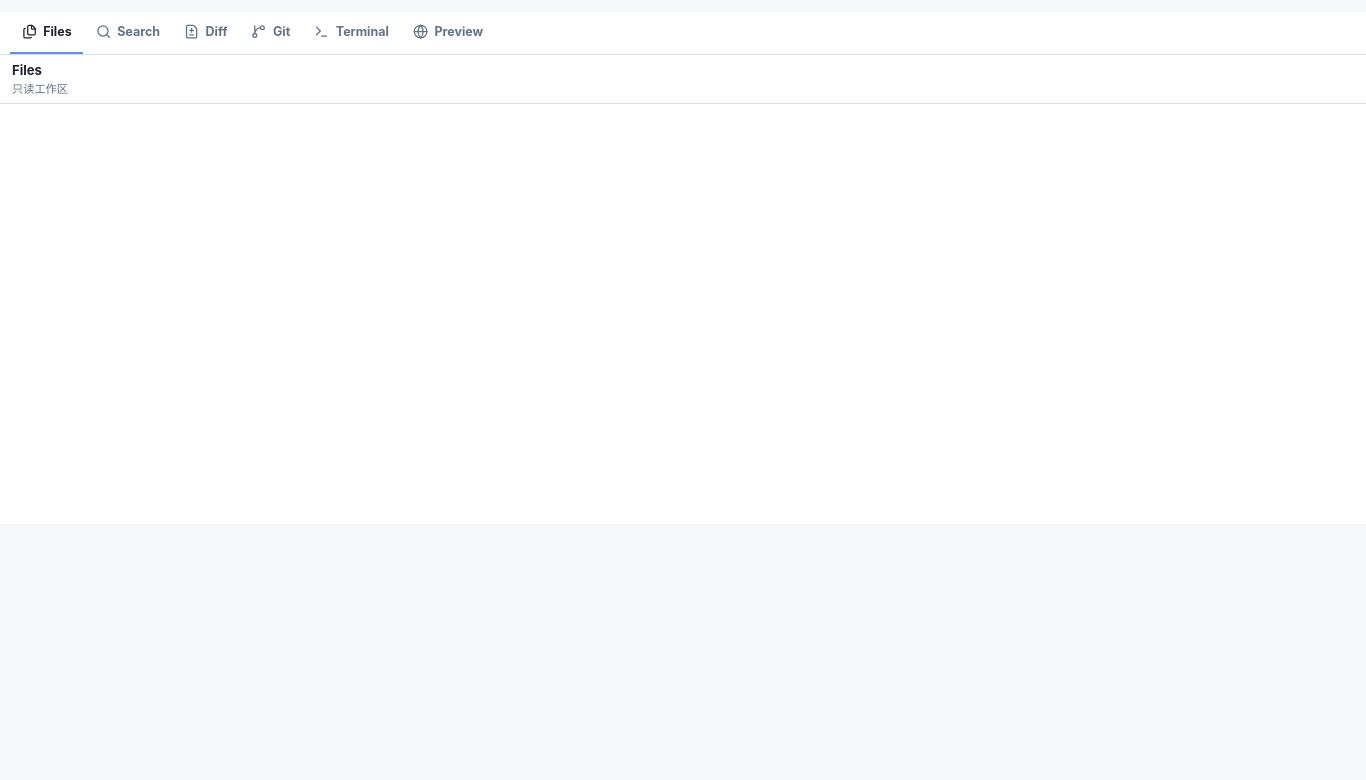
it: JA Workbench native adapter composition › searches through the typed adapter and opens the result
Click the tab "Search" at {"x": 128, "y": 33}, box top-left (84, 12), bottom-right (171, 54)
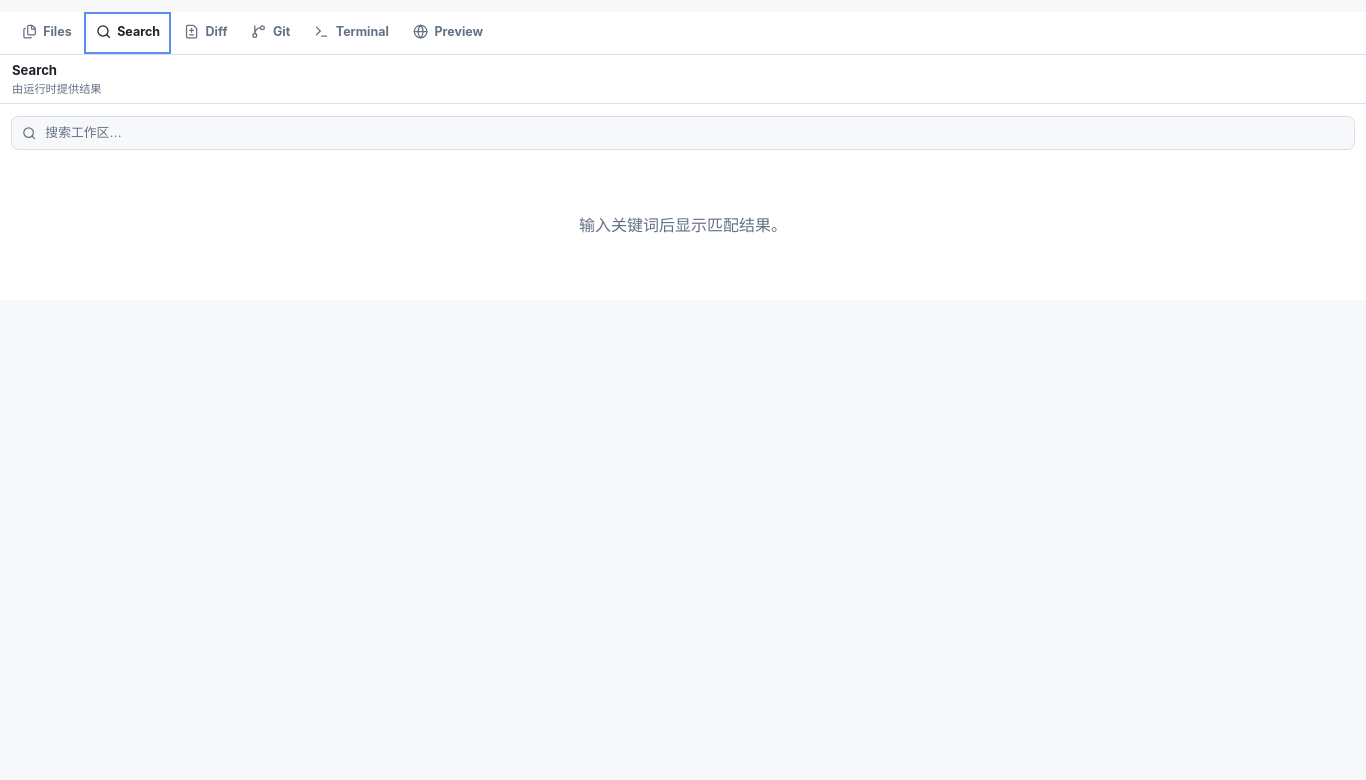
Type "needle" into the search field labelled "搜索工作区" at {"x": 694, "y": 133}, box top-left (43, 124), bottom-right (1344, 141)
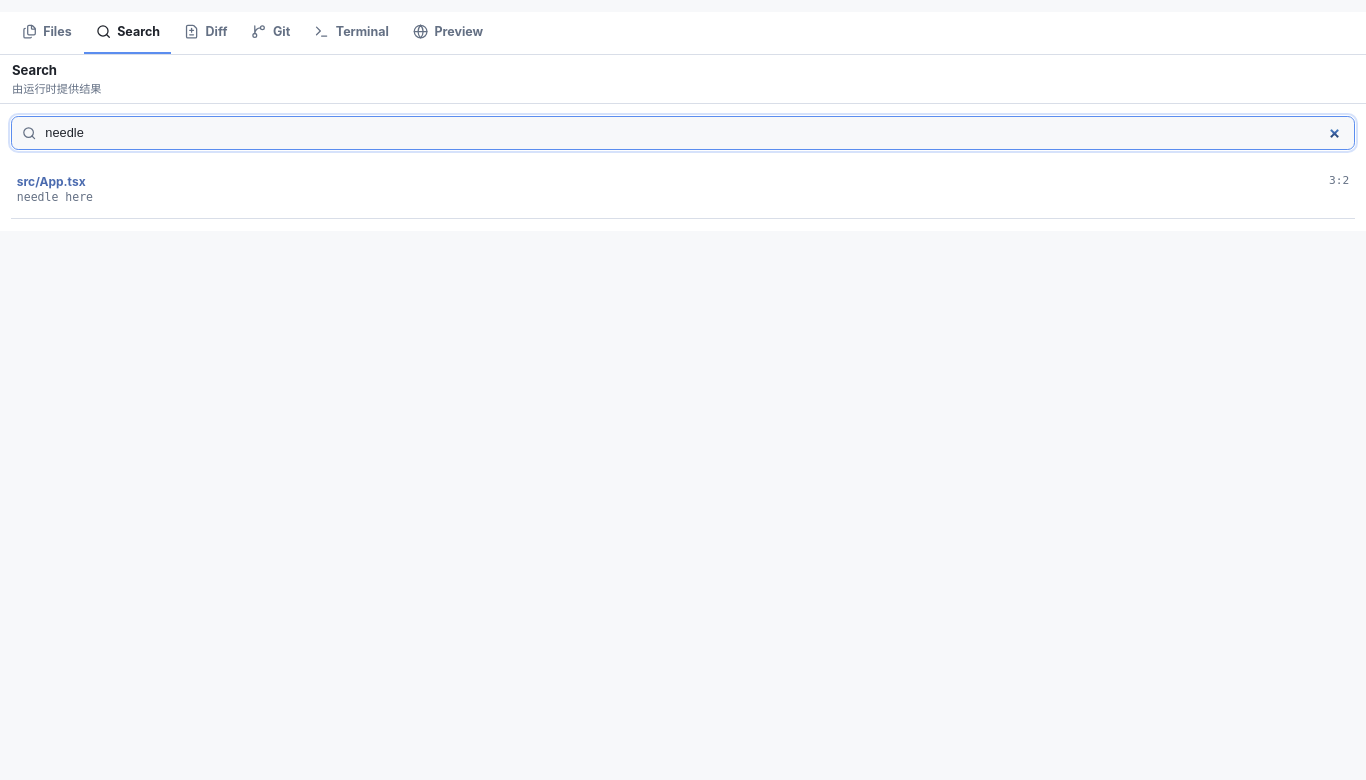
Result: the button "src/App.tsx 3:2 needle here" is shown
Click the button "src/App.tsx 3:2 needle here" at {"x": 51, "y": 181}, box top-left (11, 160), bottom-right (1355, 218)
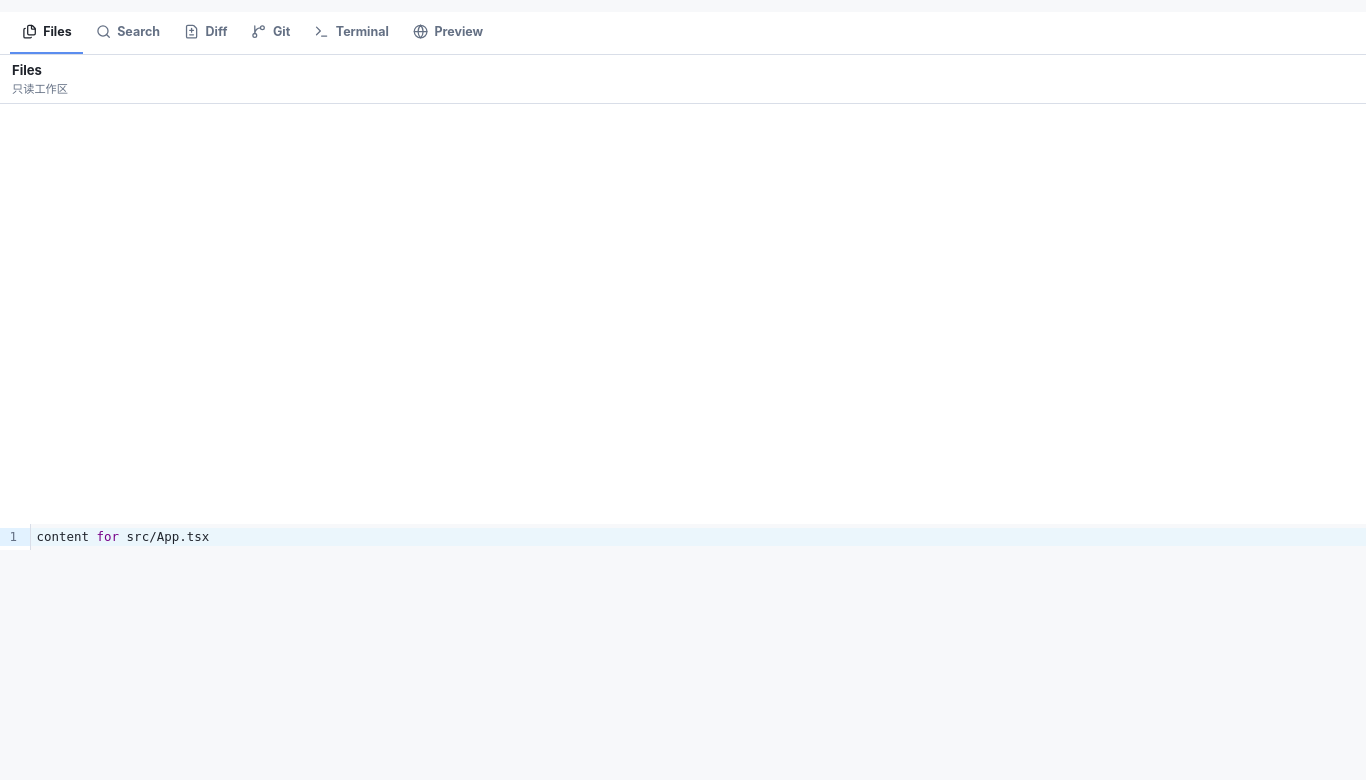
Result: the element named "只读文件 src/App.tsx" is shown at top-left (0, 524), bottom-right (1365, 550)
